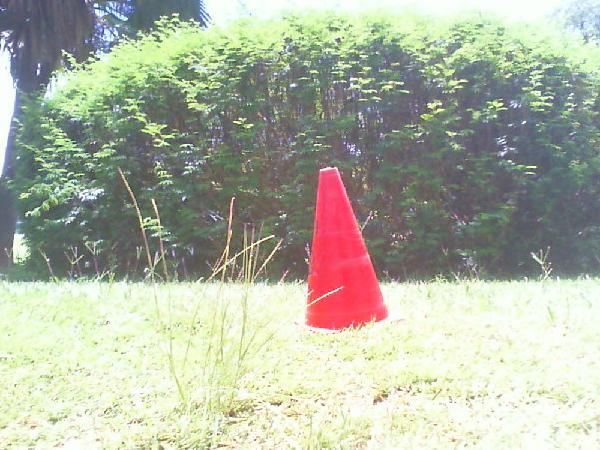0 cone: (294, 168, 404, 335)
